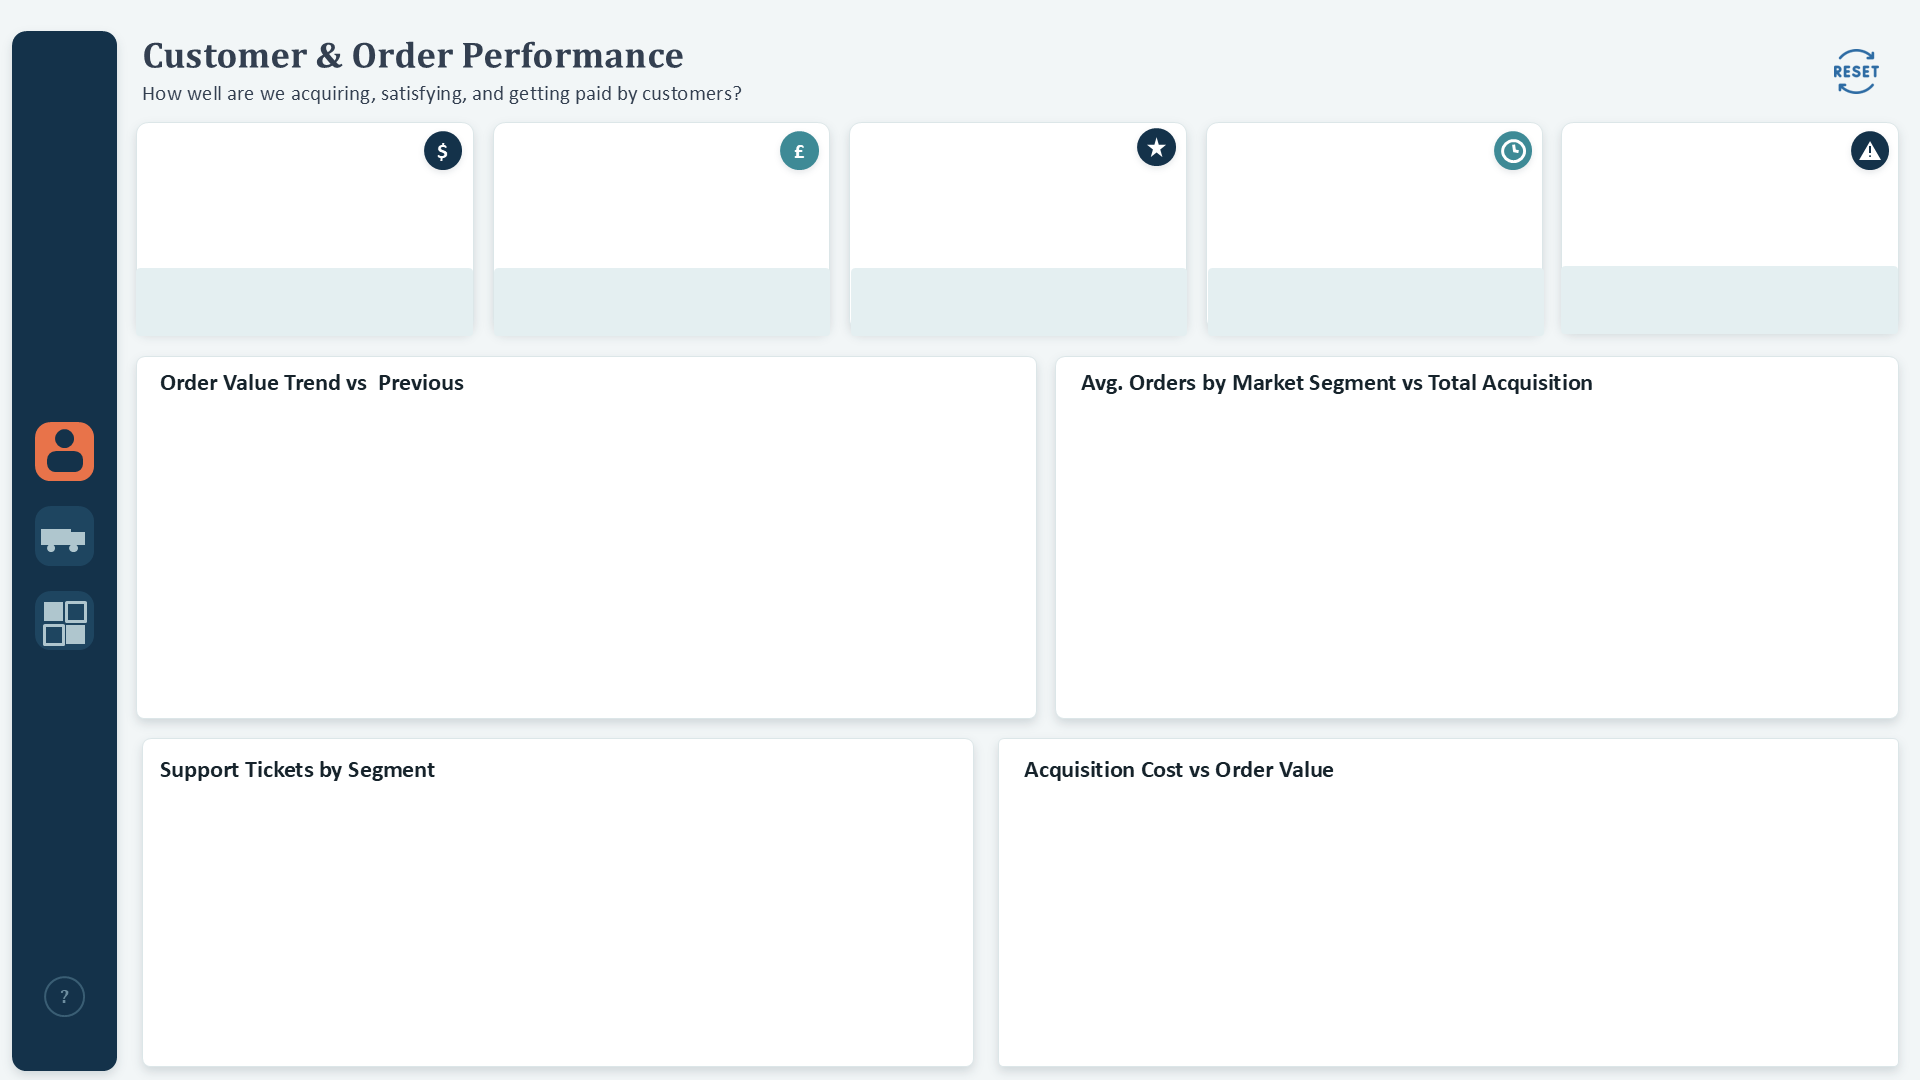

The dashboard page shown, as its layout file describes it:
{"tool":"powerbi","page":{"name":"Overview","canvas":[1280,720],"ordinal":0},"visuals":[{"type":"cardVisual","fields":{"Data":["Measures_.Total Order Value","Measures_.Total Acquisition Cost","Measures_.Avg Satisfaction Score","Measures_.Avg Days to Payment","Measures_.Total Support Tickets"]},"box":[71.5,69.9,1208.5,182.2],"z":0},{"type":"lineChart","fields":{"Category":["Calendar.MonthShort"],"Y":["Measures_.Total Order Value","Measures_.PM Order Value"]},"box":[89.3,252.9,598.1,228.6],"z":1000},{"type":"clusteredColumnChart","fields":{"Category":["Dim_MarketSegment.market_segment"],"Y":["Measures_.Avg Order Value","Measures_.Total Acquisition Cost"]},"box":[707.1,266.5,555.7,209],"z":2000},{"type":"clusteredColumnChart","fields":{"Category":["Dim_MarketSegment.market_segment"],"Y":["Measures_.Total Order Value"]},"box":[71.6,504.2,600.2,203.3],"z":3000},{"type":"scatterChart","fields":{"Category":["Calendar.MonthShort"],"Size":["Measures_.Total Order Value"],"X":["Measures_.Total Acquisition Cost"],"Y":["Measures_.Total Order Value"]},"box":[671.8,523.7,585.6,183.8],"z":4000},{"type":"lineChart","fields":{"Category":["Calendar.MonthNumber"],"Y":["Measures_.Total Acquisition Cost","select","select1"]},"box":[431,97.6,123.6,79.7],"z":5000},{"type":"lineChart","fields":{"Category":["Calendar.MonthNumber"],"Y":["Measures_.Avg Satisfaction Score","select","select1"]},"box":[653.9,100.8,151.3,79.7],"z":6000},{"type":"lineChart","fields":{"Category":["Calendar.MonthNumber"],"Y":["Measures_.Total Order Value","select","select1"]},"box":[169.2,97.6,151.3,79.7],"z":7000},{"type":"lineChart","fields":{"Category":["Calendar.MonthNumber"],"Y":["Measures_.Avg Days to Payment","select","select1"]},"box":[901.1,102.5,133.4,79.7],"z":8000},{"type":"lineChart","fields":{"Category":["Calendar.MonthNumber"],"Y":["Measures_.Total Support Tickets","select","select1"]},"box":[1120.7,97.6,151,79],"z":9000},{"type":"advancedSlicerVisual","fields":{"Values":["Calendar.Year"]},"box":[736.8,14.6,484.7,55.3],"z":10000},{"type":"actionButton","box":[653.9,239.1,34.2,27.7],"z":11000},{"type":"actionButton","box":[1234.5,237.5,34.2,27.7],"z":12000},{"type":"actionButton","box":[1236.2,489.6,34.2,27.7],"z":13000},{"type":"actionButton","box":[618.1,489.6,34.2,27.7],"z":14000},{"type":"actionButton","box":[1215.9,22.7,42.4,43.9],"z":15000},{"type":"pageNavigator","box":[16.7,275.6,51.5,162],"z":16000},{"type":"cardVisual","fields":{"Data":["Measures_.Base"]},"box":[614.8,487.6,33.3,33.3],"z":17000},{"type":"cardVisual","fields":{"Data":["Measures_.Base"]},"box":[652.6,234.7,33.3,33.3],"z":18000},{"type":"cardVisual","fields":{"Data":["Measures_.Base"]},"box":[1232.6,234.7,33.3,33.3],"z":19000},{"type":"cardVisual","fields":{"Data":["Measures_.Base"]},"box":[1232.6,490.6,30.3,25.7],"z":20000}]}

Visuals, with their boxes on the page's 1280x720 design canvas (x1, y1, x2, y2). These are canvas units, not pixel positions in the 1920x1080 screenshot, which may show the page scaled, cropped or inside an application window:
cardVisual - Measures_.Total Order Value x Measures_.Total Acquisition Cost: (left=72, top=70, right=1280, bottom=252)
lineChart - Calendar.MonthShort x Measures_.Total Order Value: (left=89, top=253, right=687, bottom=482)
clusteredColumnChart - Dim_MarketSegment.market_segment x Measures_.Avg Order Value: (left=707, top=266, right=1263, bottom=476)
clusteredColumnChart - Dim_MarketSegment.market_segment x Measures_.Total Order Value: (left=72, top=504, right=672, bottom=708)
scatterChart - Calendar.MonthShort x Measures_.Total Order Value: (left=672, top=524, right=1257, bottom=708)
lineChart - Calendar.MonthNumber x Measures_.Total Acquisition Cost: (left=431, top=98, right=555, bottom=177)
lineChart - Calendar.MonthNumber x Measures_.Avg Satisfaction Score: (left=654, top=101, right=805, bottom=180)
lineChart - Calendar.MonthNumber x Measures_.Total Order Value: (left=169, top=98, right=320, bottom=177)
lineChart - Calendar.MonthNumber x Measures_.Avg Days to Payment: (left=901, top=102, right=1034, bottom=182)
lineChart - Calendar.MonthNumber x Measures_.Total Support Tickets: (left=1121, top=98, right=1272, bottom=177)
advancedSlicerVisual - Calendar.Year: (left=737, top=15, right=1222, bottom=70)
actionButton: (left=654, top=239, right=688, bottom=267)
actionButton: (left=1234, top=238, right=1269, bottom=265)
actionButton: (left=1236, top=490, right=1270, bottom=517)
actionButton: (left=618, top=490, right=652, bottom=517)
actionButton: (left=1216, top=23, right=1258, bottom=67)
pageNavigator: (left=17, top=276, right=68, bottom=438)
cardVisual - Measures_.Base: (left=615, top=488, right=648, bottom=521)
cardVisual - Measures_.Base: (left=653, top=235, right=686, bottom=268)
cardVisual - Measures_.Base: (left=1233, top=235, right=1266, bottom=268)
cardVisual - Measures_.Base: (left=1233, top=491, right=1263, bottom=516)
